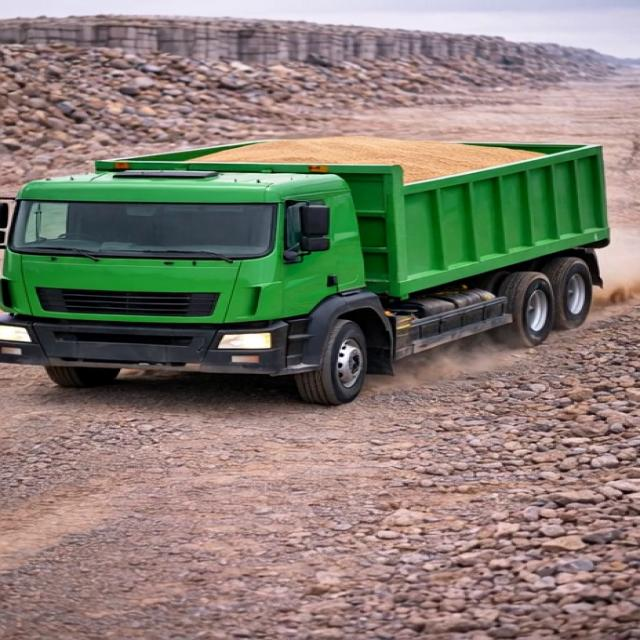Box: (79, 128, 608, 184)
Truck: (0, 118, 620, 409)
